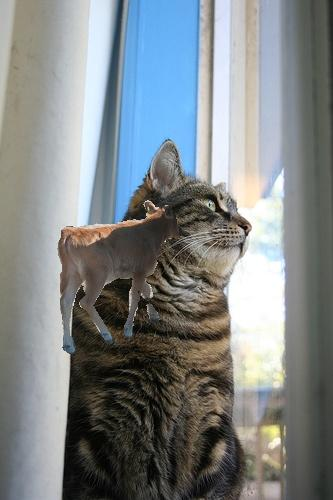tampered: (58, 201, 181, 354)
